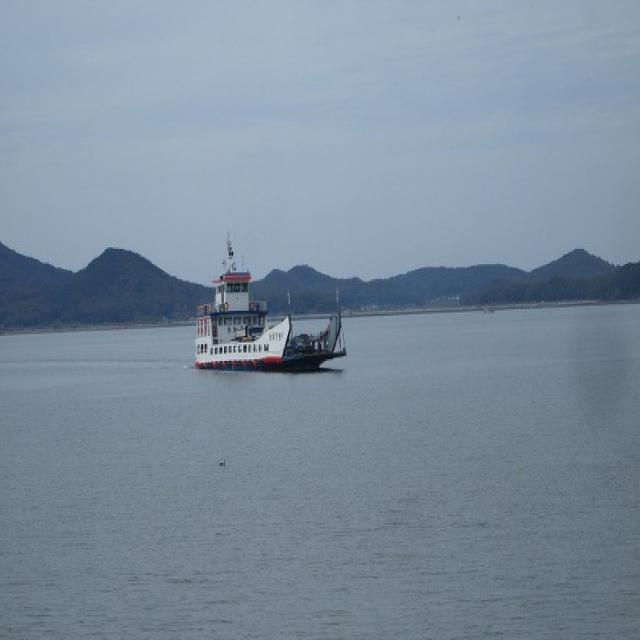cargoship: (194, 245, 331, 383)
